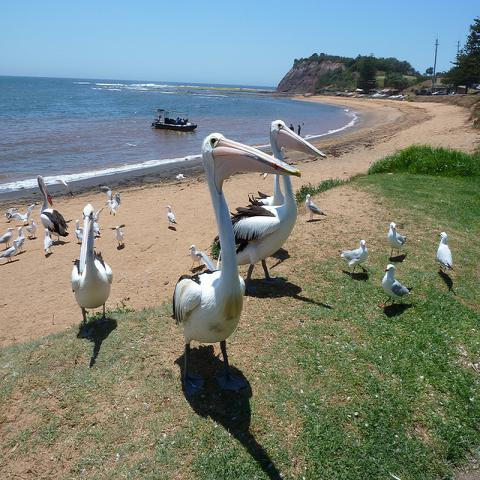car: (388, 95, 407, 100), (437, 91, 446, 95)
